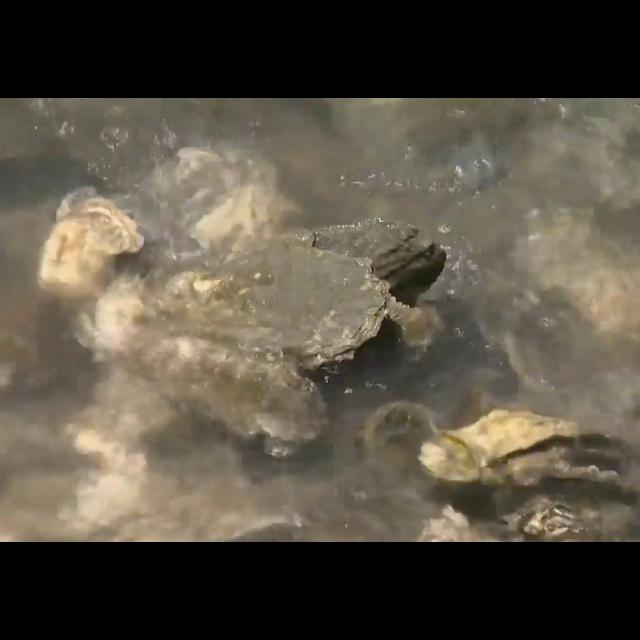Oyster-Closed: (145, 244, 393, 370), (128, 329, 330, 459), (308, 216, 448, 310), (37, 185, 145, 299)
Oyster-Open: (421, 408, 634, 494)
